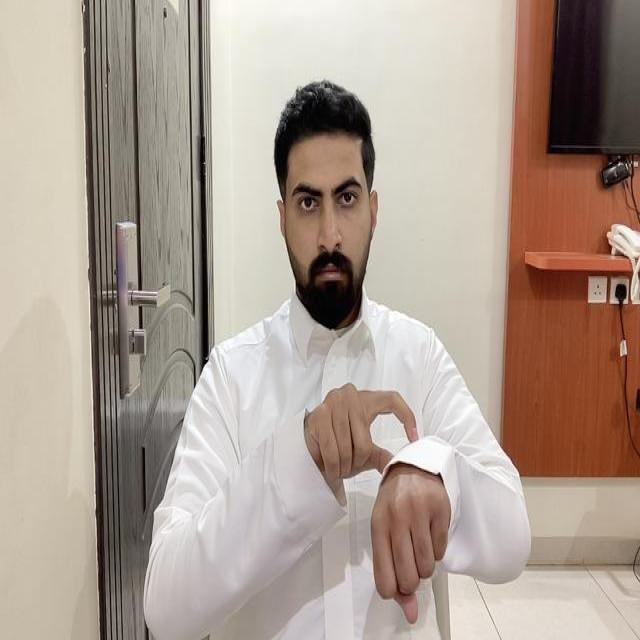appointment: (304, 376, 454, 620)
